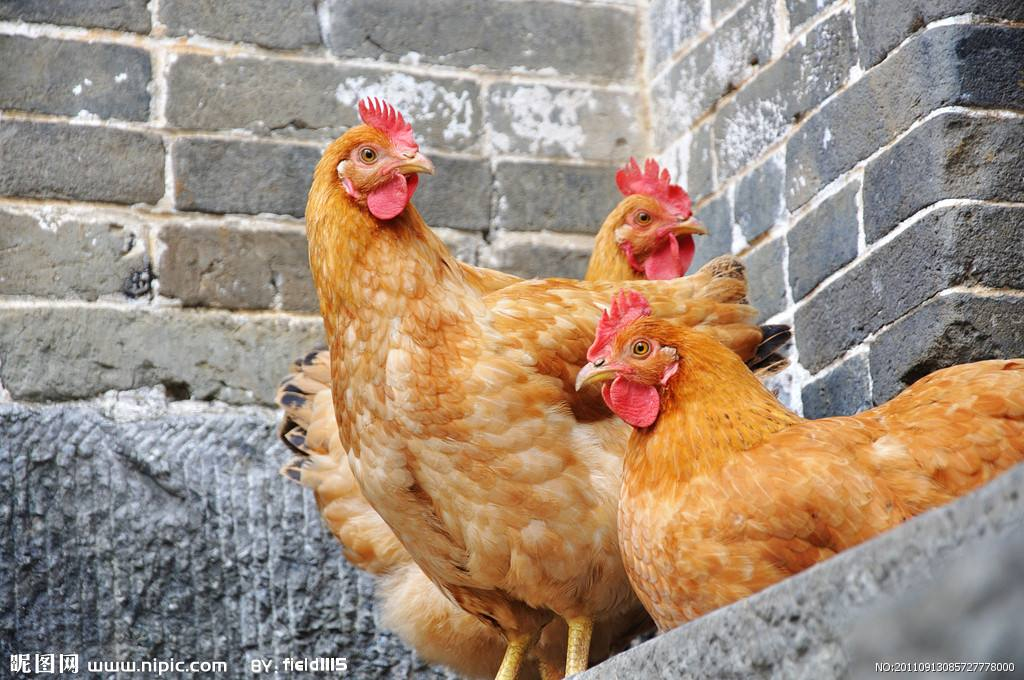chicken: (303, 95, 764, 680), (280, 156, 727, 679), (563, 296, 1024, 636)
